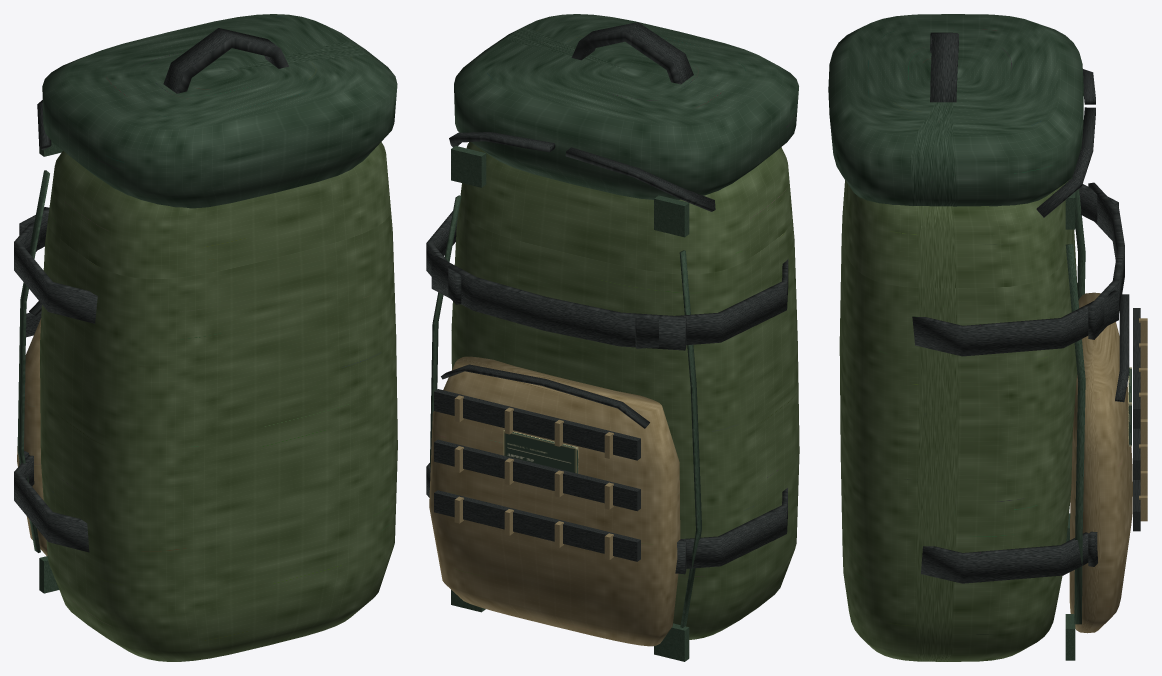
The model's file is PZ_MorrowTrail35_MainBag_Only.glb.
3 views of the same model, side by side, from view 1: azimuth 30°, elevation 25°; view 2: azimuth 150°, elevation 25°; view 3: azimuth 270°, elevation 25° (orthographic). The views are drawn at different scales.
Parts seen in each view (by area): view 1: MainBag_35L_Olive_Contoured_ClosedShell, TopLid_Structured_Closure_Separate, Left_Compression_Side_Webbing_Z47, Load_Handle_OverTop, Left_Compression_Side_Webbing_Z21, Front_ShoveIt_Pocket_Panel, Main_FaceVerticalSeam_L; view 2: MainBag_35L_Olive_Contoured_ClosedShell, TopLid_Structured_Closure_Separate, Front_ShoveIt_Pocket_Panel, Front_Compression_Band_Z47, MOLLE_Front_Horizontal_Row_2, MOLLE_Front_Horizontal_Row_1, MOLLE_Front_Horizontal_Row_3, Left_Compression_Side_Webbing_Z47, Left_Compression_Side_Webbing_Z21, Load_Handle_OverTop, Main_FaceVerticalSeam_L, Embroidered_Morrow_Trail35_Sewn_Label (+8 smaller); view 3: MainBag_35L_Olive_Contoured_ClosedShell, TopLid_Structured_Closure_Separate, Front_ShoveIt_Pocket_Panel, Right_Compression_Side_Webbing_Z47, Right_Compression_Side_Webbing_Z21, Main_FaceVerticalSeam_R, Front_Compression_Band_Z47, Load_Handle_OverTop, Upper_Zipper_Right, Pocket_Zip, MOLLE_Front_Horizontal_Row_3, Main_FaceVerticalSeam_L (+2 smaller).
Part boxes in pixels (box(x1,y1,x2,y2)): MainBag_35L_Olive_Contoured_ClosedShell: box(40, 142, 397, 661); TopLid_Structured_Closure_Separate: box(42, 14, 397, 208); Left_Compression_Side_Webbing_Z47: box(14, 207, 97, 323); Load_Handle_OverTop: box(163, 28, 288, 93); Left_Compression_Side_Webbing_Z21: box(14, 455, 89, 552); Front_ShoveIt_Pocket_Panel: box(17, 318, 47, 555); Main_FaceVerticalSeam_L: box(17, 170, 49, 552); MainBag_35L_Olive_Contoured_ClosedShell: box(451, 142, 799, 639); TopLid_Structured_Closure_Separate: box(454, 14, 798, 199); Front_ShoveIt_Pocket_Panel: box(429, 356, 680, 646); Front_Compression_Band_Z47: box(431, 255, 686, 350); MOLLE_Front_Horizontal_Row_2: box(434, 439, 640, 511); MOLLE_Front_Horizontal_Row_1: box(434, 490, 640, 561); MOLLE_Front_Horizontal_Row_3: box(434, 389, 640, 460); Left_Compression_Side_Webbing_Z47: box(635, 259, 788, 348); Left_Compression_Side_Webbing_Z21: box(680, 488, 787, 568); Load_Handle_OverTop: box(571, 22, 693, 84); Main_FaceVerticalSeam_L: box(679, 250, 701, 627); Embroidered_Morrow_Trail35_Sewn_Label: box(503, 430, 578, 473); MainBag_35L_Olive_Contoured_ClosedShell: box(839, 180, 1077, 661); TopLid_Structured_Closure_Separate: box(828, 14, 1083, 206); Front_ShoveIt_Pocket_Panel: box(1069, 292, 1132, 633); Right_Compression_Side_Webbing_Z47: box(912, 290, 1118, 356); Right_Compression_Side_Webbing_Z21: box(921, 532, 1088, 583); Main_FaceVerticalSeam_R: box(1065, 244, 1085, 624); Front_Compression_Band_Z47: box(1088, 182, 1124, 339); Load_Handle_OverTop: box(930, 32, 958, 102); Upper_Zipper_Right: box(1036, 107, 1095, 217); Pocket_Zip: box(1115, 294, 1129, 402); MOLLE_Front_Horizontal_Row_3: box(1133, 308, 1140, 428); Main_FaceVerticalSeam_L: box(1070, 177, 1085, 300).
Bounding box in the file's own units: 0.406 × 0.67 × 0.3375.
6 materials, 6 textured.
